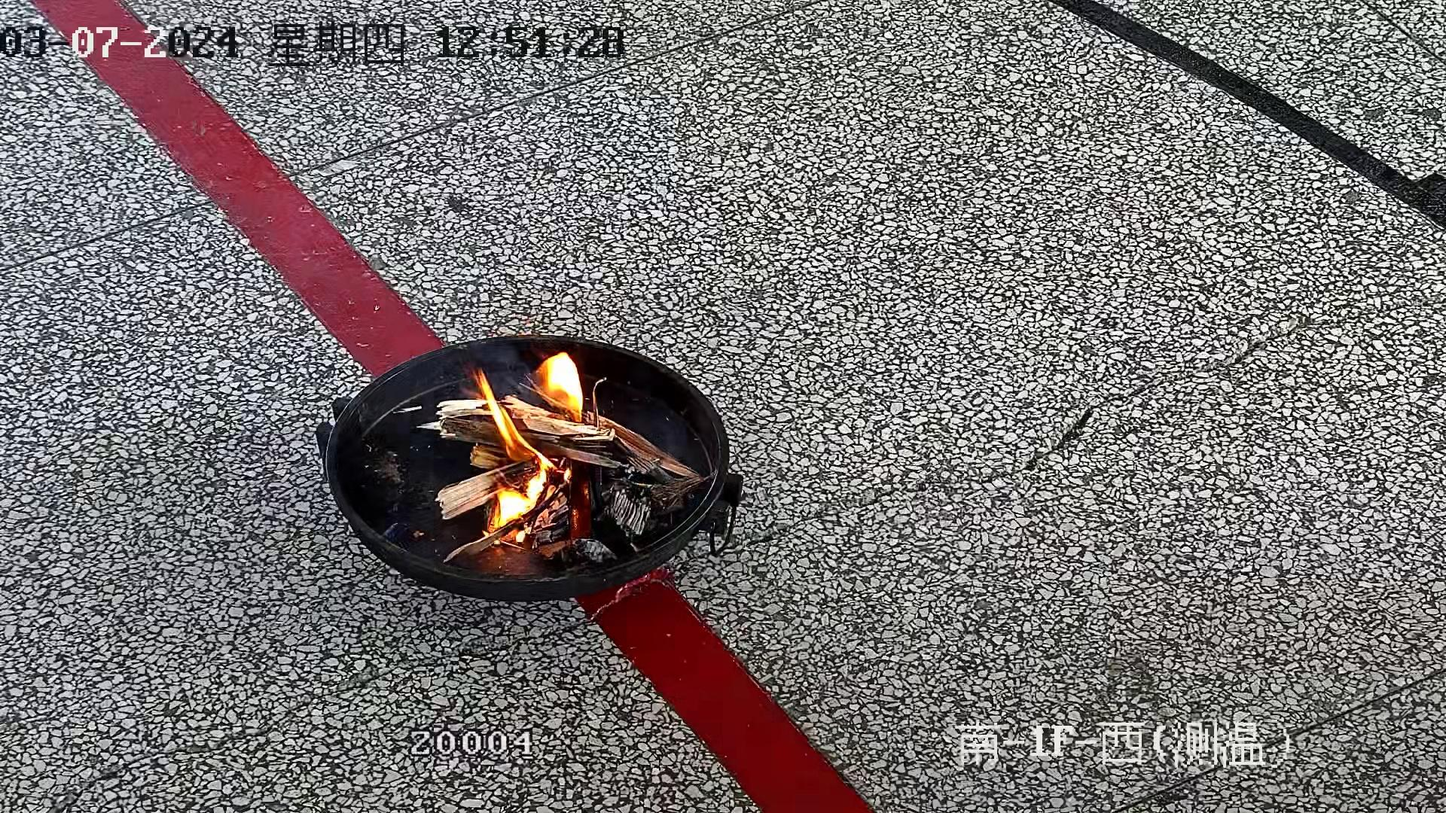fire: (477, 372, 558, 535), (532, 352, 583, 419)
